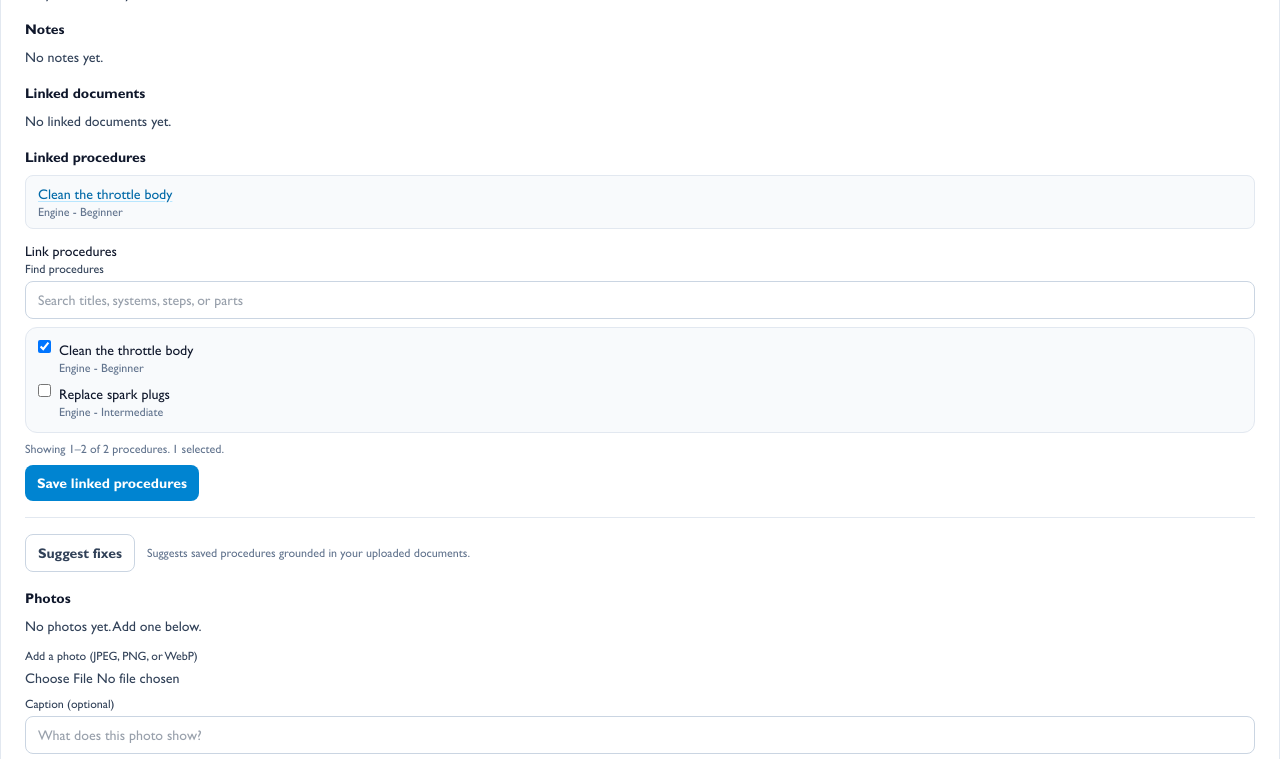
Test: user can save linked procedures with mocked fetch
(page scrolled)
Click the checkbox labelled "Replace spark plugs Engine - Intermediate" at (44, 390), box [38,384,51,397]
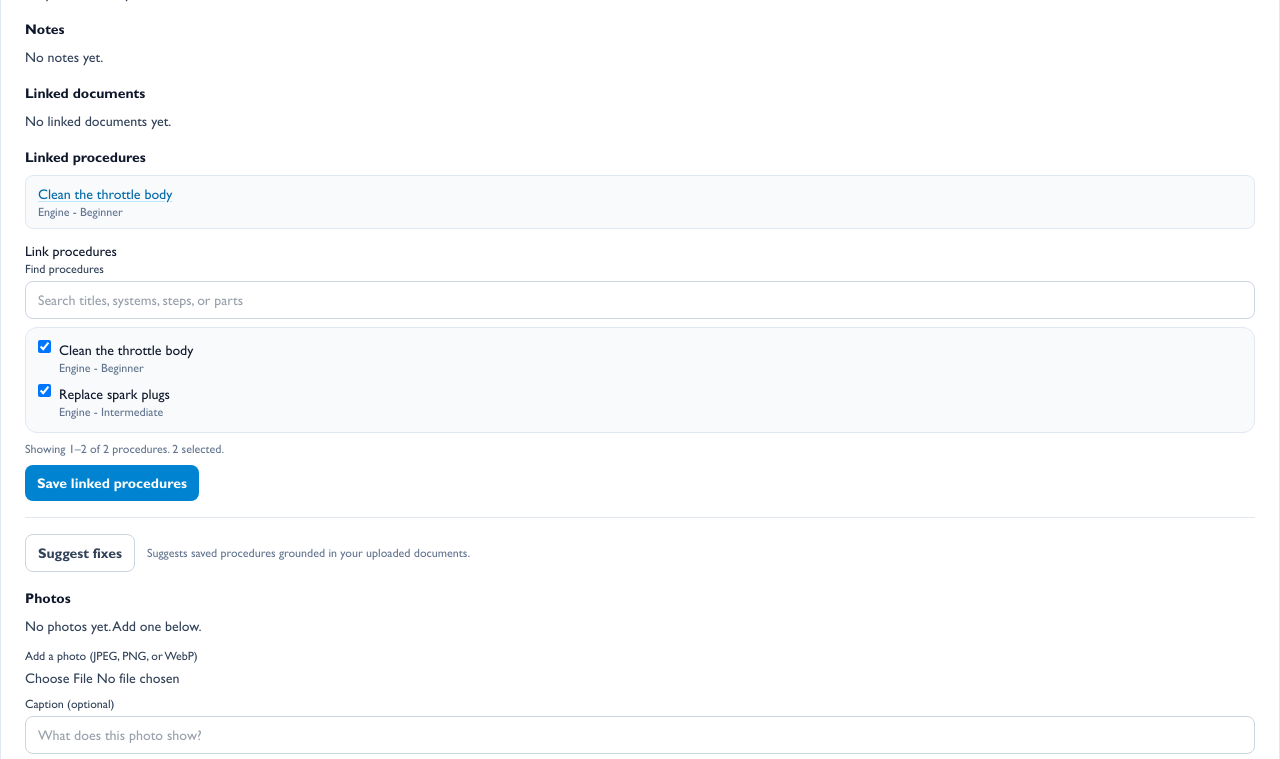
Click the button "Save linked procedures" at (112, 483), box [25,465,199,501]
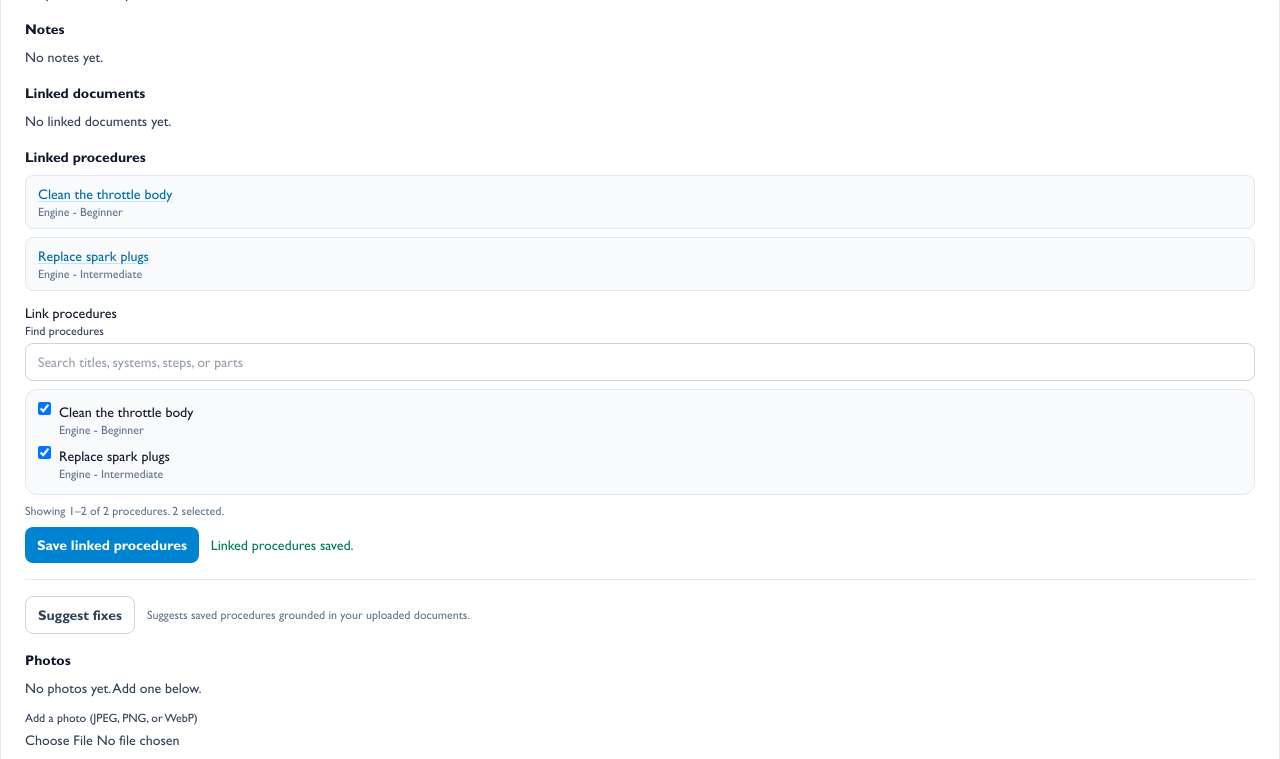
Expected: the text "Linked procedures saved." is shown, [211,535,354,555]
